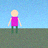person: (8, 10, 21, 33)
